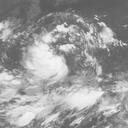cyclone: (19, 41, 69, 86)
